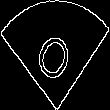O_SW: (31, 21, 79, 89)
